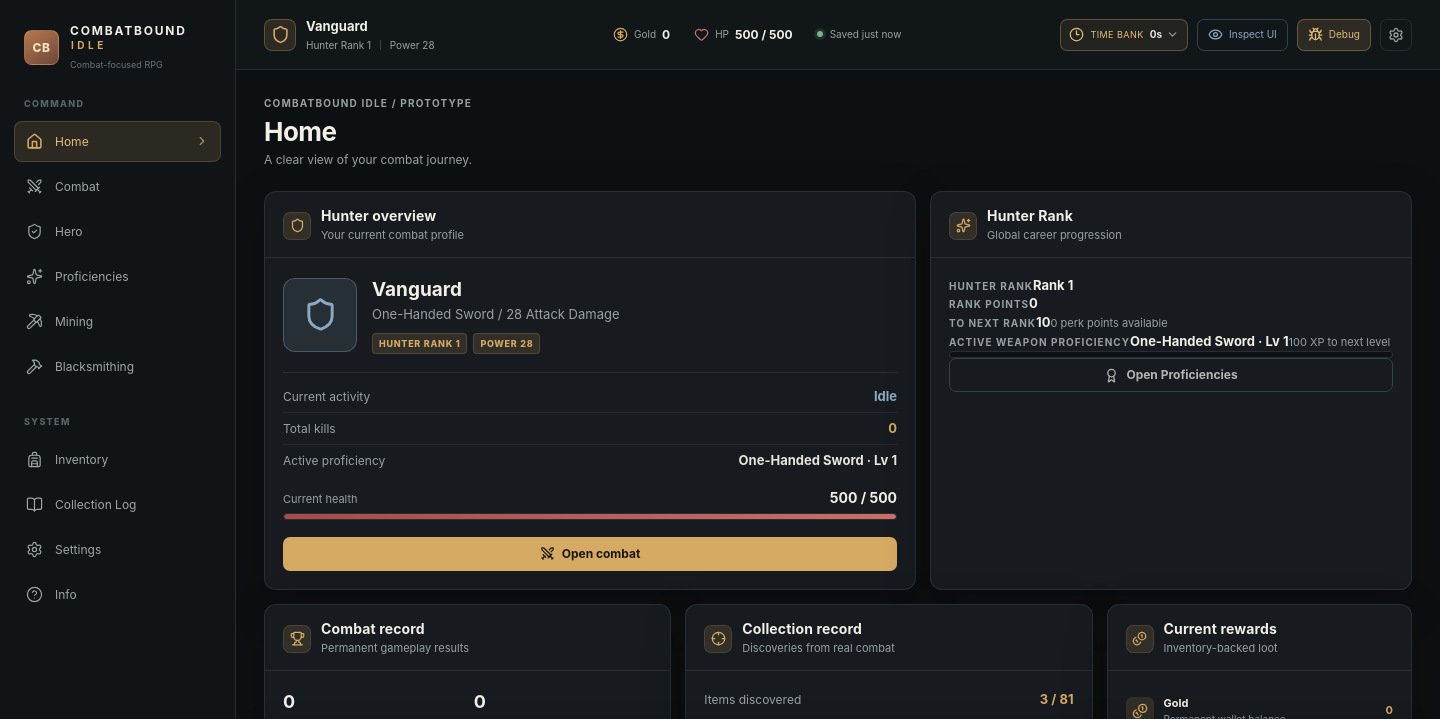
Scenario: Combat Abilities V14 UI › shows one shared five-slot loadout and the canonical library
Click the button "Hero": [118, 232] box [14,211,221,252]
(page scrolled)
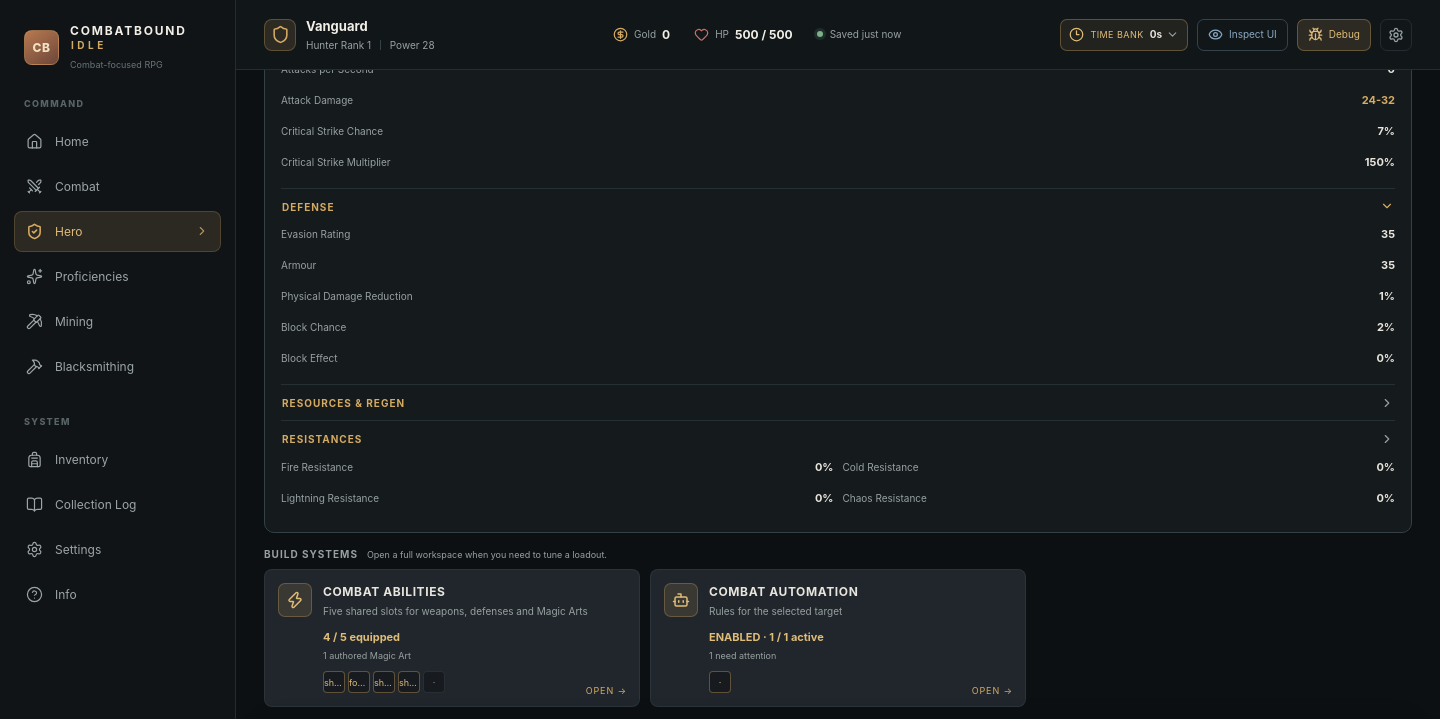
Click the button "COMBAT ABILITIES": [295, 600] box [264,569,640,708]
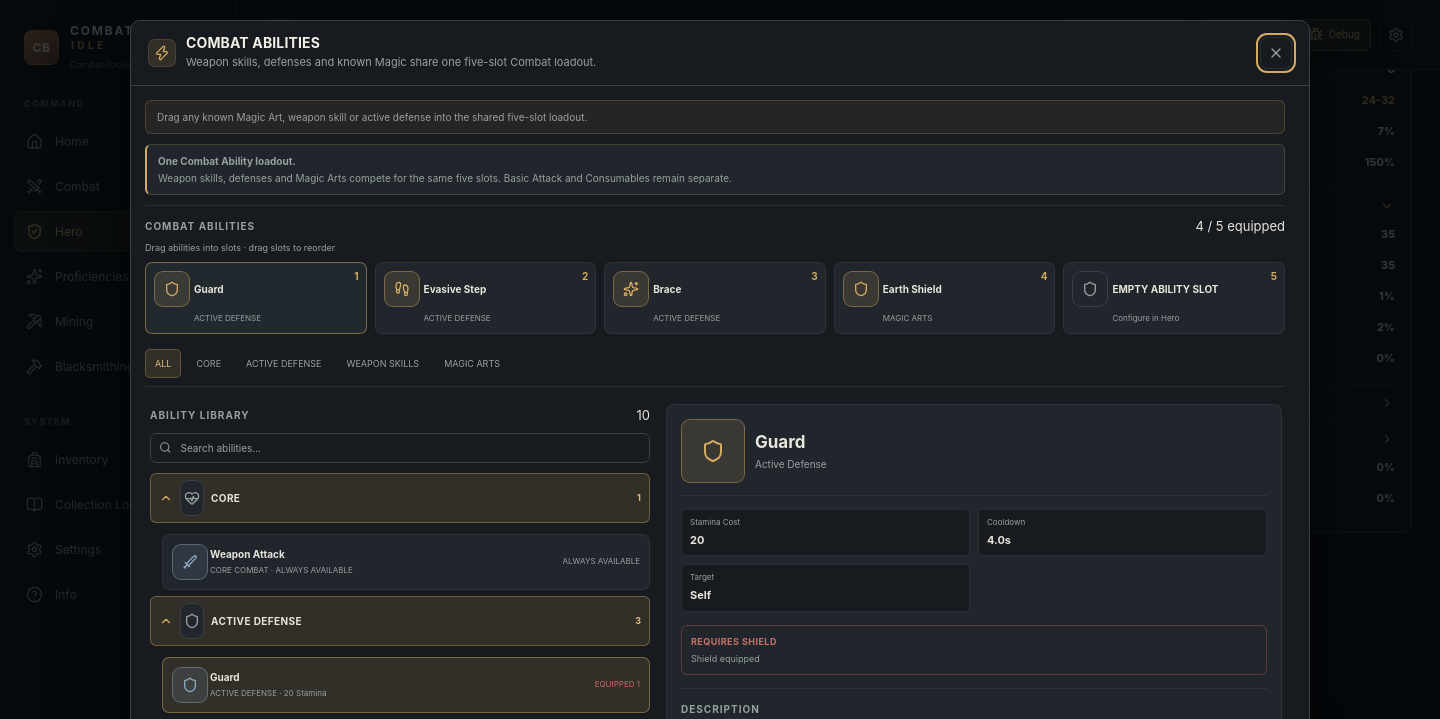
Check: the button "Weapon Attack" is shown, box [162,534,650,590]
Check: the button "Guard ACTIVE DEFENSE · 20 Stamina EQUIPPED 1" is shown, box [162,657,650,713]
Check: the text "REQUIRES SHIELD" is shown, box [691,636,777,647]
